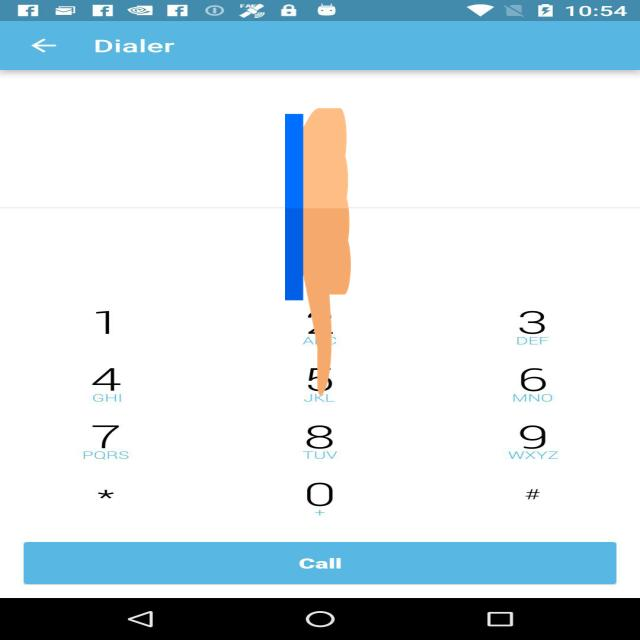obstruction: (285, 101, 351, 402)
